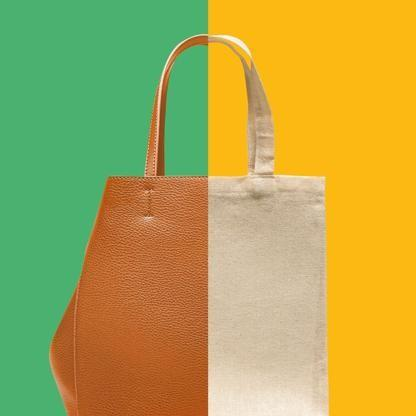not trash: (50, 38, 328, 416)
